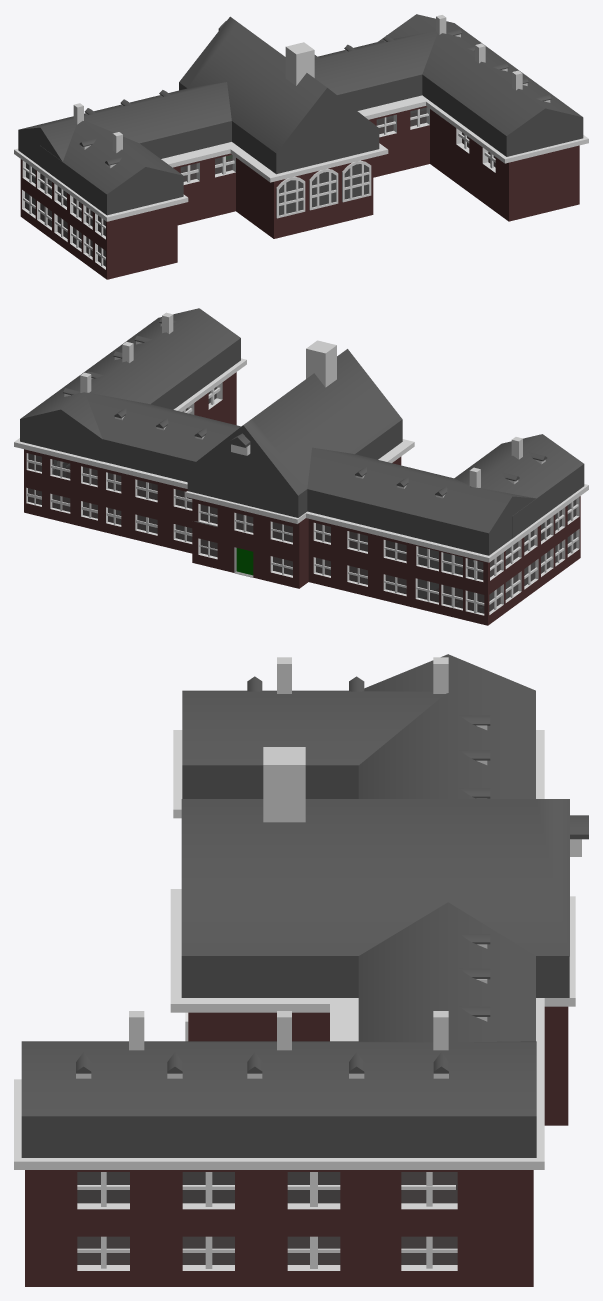
File: saxion textile buidling.fbx
3 views of the same model, one above another, from view 1: azimuth 30°, elevation 25°; view 2: azimuth 150°, elevation 25°; view 3: azimuth 270°, elevation 25° (orthographic). The views are drawn at different scales.
Visible parts, largest first — view 1: pCube1, pCube8, pCube10, pCube3, pCube7, pCube9, pCube2, polySurface2, polySurface4, polySurface5, pCube13; view 2: pCube1, pCube8, pCube10, pCube3, pCube7, pCube9, pCube2, pCube13; view 3: pCube1, pCube10, pCube3, pCube8, pCube9, pCube2, pCube13.
Boxes of the visible parts, left/top/right/bottom form: pCube1: left=173, top=106, right=579, bottom=238; pCube8: left=18, top=31, right=437, bottom=165; pCube10: left=179, top=16, right=379, bottom=174; pCube3: left=378, top=14, right=583, bottom=156; pCube7: left=20, top=159, right=177, bottom=279; pCube9: left=40, top=120, right=183, bottom=215; pCube2: left=14, top=95, right=588, bottom=221; polySurface2: left=276, top=176, right=305, bottom=218; polySurface4: left=309, top=168, right=338, bottom=210; polySurface5: left=342, top=160, right=371, bottom=202; pCube13: left=285, top=42, right=314, bottom=85; pCube1: left=24, top=372, right=412, bottom=607; pCube8: left=85, top=392, right=535, bottom=555; pCube10: left=187, top=349, right=402, bottom=517; pCube3: left=20, top=308, right=240, bottom=461; pCube7: left=412, top=496, right=580, bottom=625; pCube9: left=454, top=434, right=584, bottom=538; pCube2: left=14, top=358, right=588, bottom=562; pCube13: left=306, top=340, right=336, bottom=387; pCube1: left=25, top=1006, right=568, bottom=1286; pCube10: left=181, top=799, right=569, bottom=997; pCube3: left=21, top=1041, right=536, bottom=1157; pCube8: left=358, top=654, right=535, bottom=1042; pCube9: left=182, top=690, right=449, bottom=798; pCube2: left=14, top=730, right=575, bottom=1169; pCube13: left=263, top=747, right=305, bottom=822.
Bounding box in the file's own units: 98.96 × 34.46 × 55.74.
